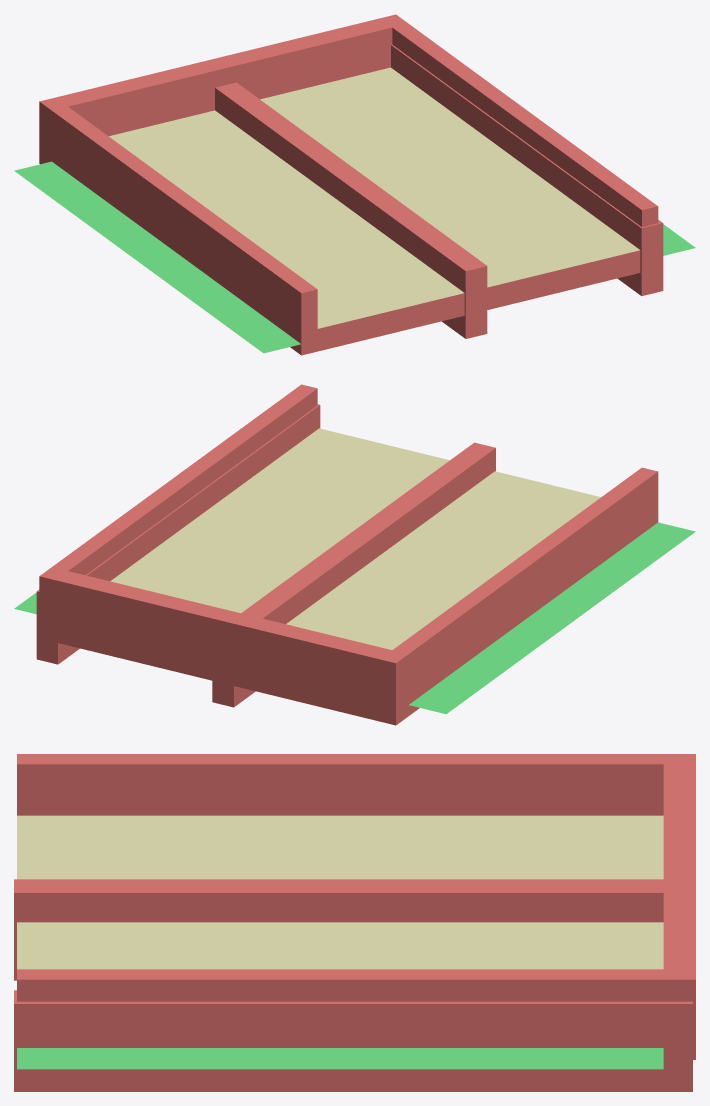
The model's file is single_wallrail.fbx.
3 renders of one model, top to bottom at view 1: azimuth 30°, elevation 25°; view 2: azimuth 150°, elevation 25°; view 3: azimuth 270°, elevation 25°, orthographic. The views are drawn at different scales.
Parts seen in each view (by area): view 1: 1_cube, rail.001, Plane, rail; view 2: 1_cube, rail.001, Plane, rail; view 3: 1_cube, rail, rail.001, Plane.
Boxes of the visible parts, x1,y1,x2,y2 form: 1_cube: (39, 14, 658, 355); rail.001: (215, 82, 487, 338); Plane: (14, 161, 695, 353); rail: (391, 44, 663, 296); 1_cube: (39, 384, 658, 725); rail.001: (212, 442, 495, 707); Plane: (14, 522, 695, 714); rail: (36, 404, 320, 664); 1_cube: (17, 754, 695, 1059); rail: (14, 990, 692, 1091); rail.001: (14, 879, 663, 980); Plane: (17, 1048, 663, 1069).
Size of the model in its own units: 200 by 37.5 by 211.
